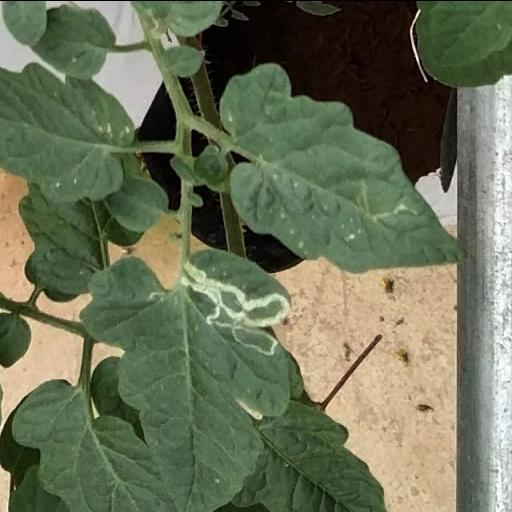Leaf Miner: (80, 247, 297, 512)
